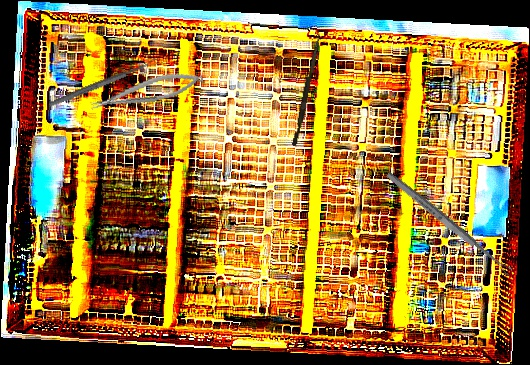Needle Holder: (87, 67, 206, 115)
Pusher: (292, 32, 321, 147)
Surgical Spoon: (384, 170, 514, 277), (48, 58, 159, 108)
